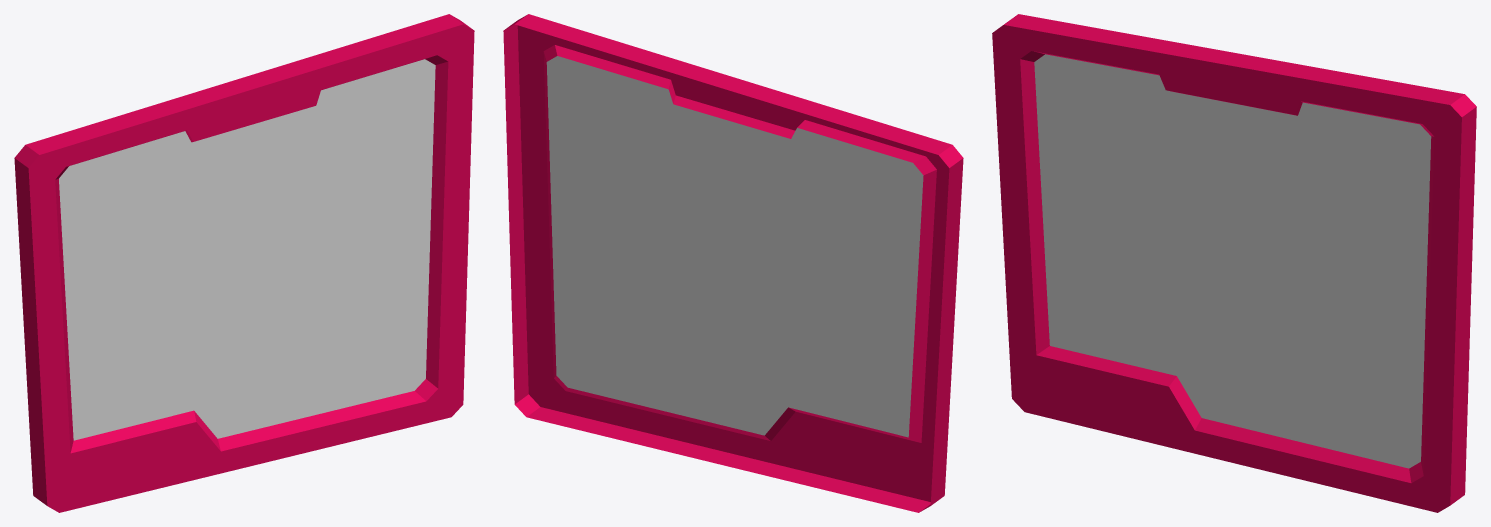
Rendered from SM_Ecran_01.fbx.
The picture shows the model from 3 angles, left to right: view 1: azimuth 30°, elevation 25°; view 2: azimuth 150°, elevation 25°; view 3: azimuth 330°, elevation 25°; orthographic projection. The views are drawn at different scales.
Visible parts, largest first — view 1: SM_Ecran_01; view 2: SM_Ecran_01; view 3: SM_Ecran_01.
Boxes of the visible parts, bbox=[...] form: SM_Ecran_01: bbox=[14, 14, 474, 512]; SM_Ecran_01: bbox=[503, 14, 963, 512]; SM_Ecran_01: bbox=[992, 14, 1476, 512].
Bounding box in the file's own units: 3.55 × 2.97 × 0.1949.
